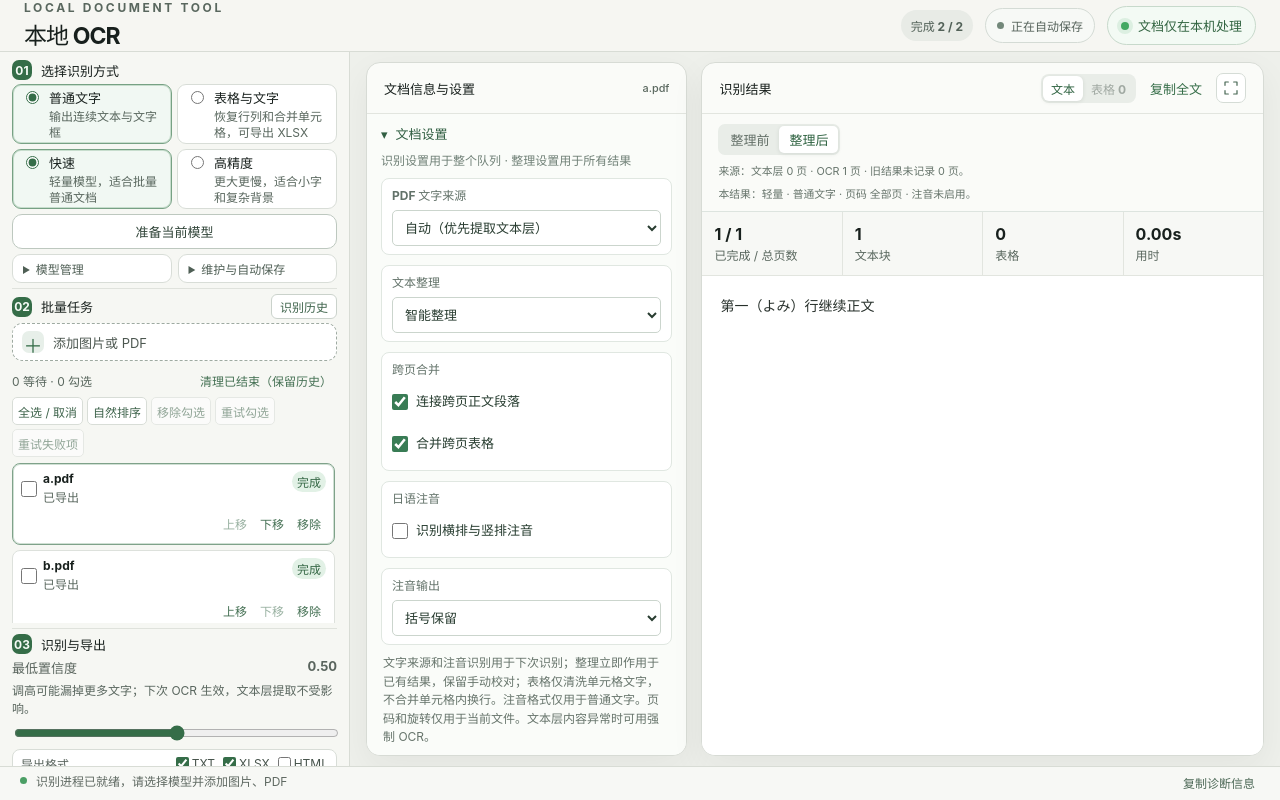
Test: 0.13 state and output regressions › focus mode has two copy buttons and a working ruby preview
Click the checkbox named "识别日语注音" at (400, 531), box [392, 523, 408, 539]
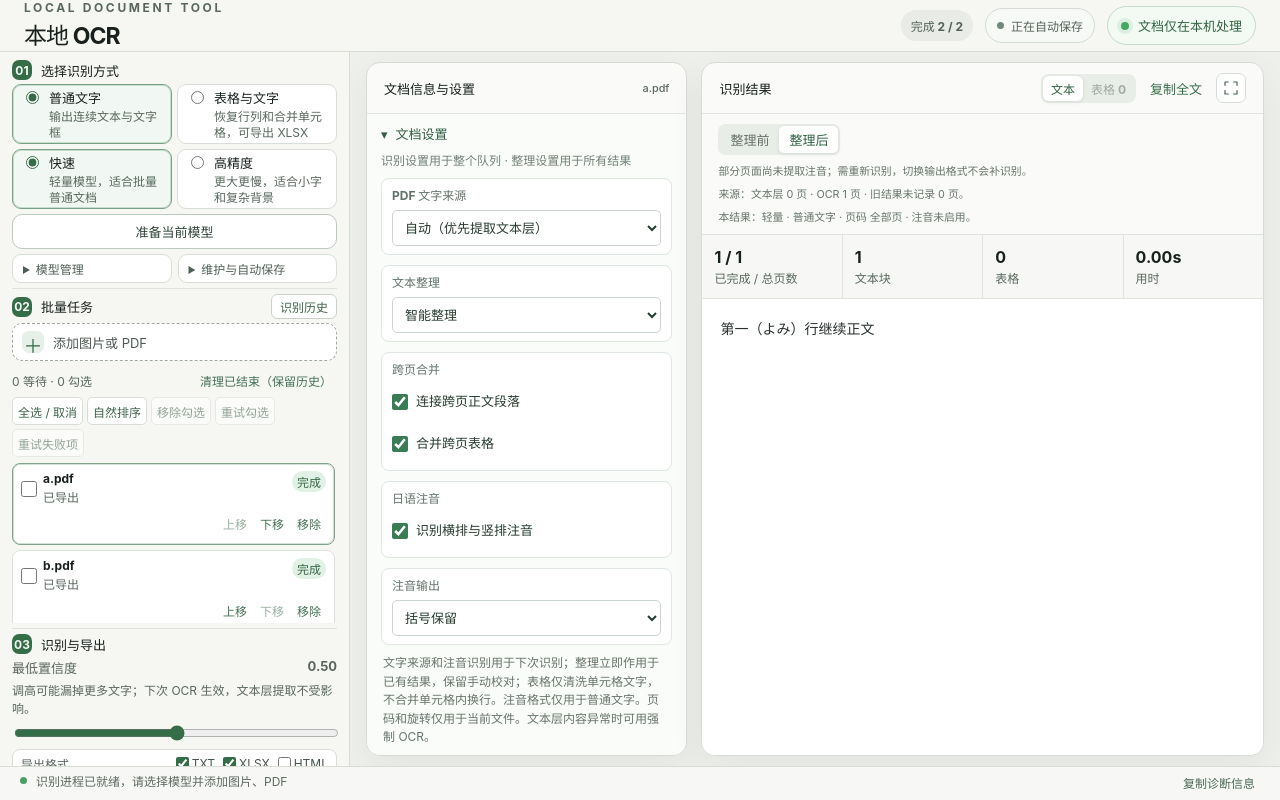
Select "Ruby 小字（HTML）" in the dropdown named "注音输出" at (527, 618), box [392, 600, 662, 636]
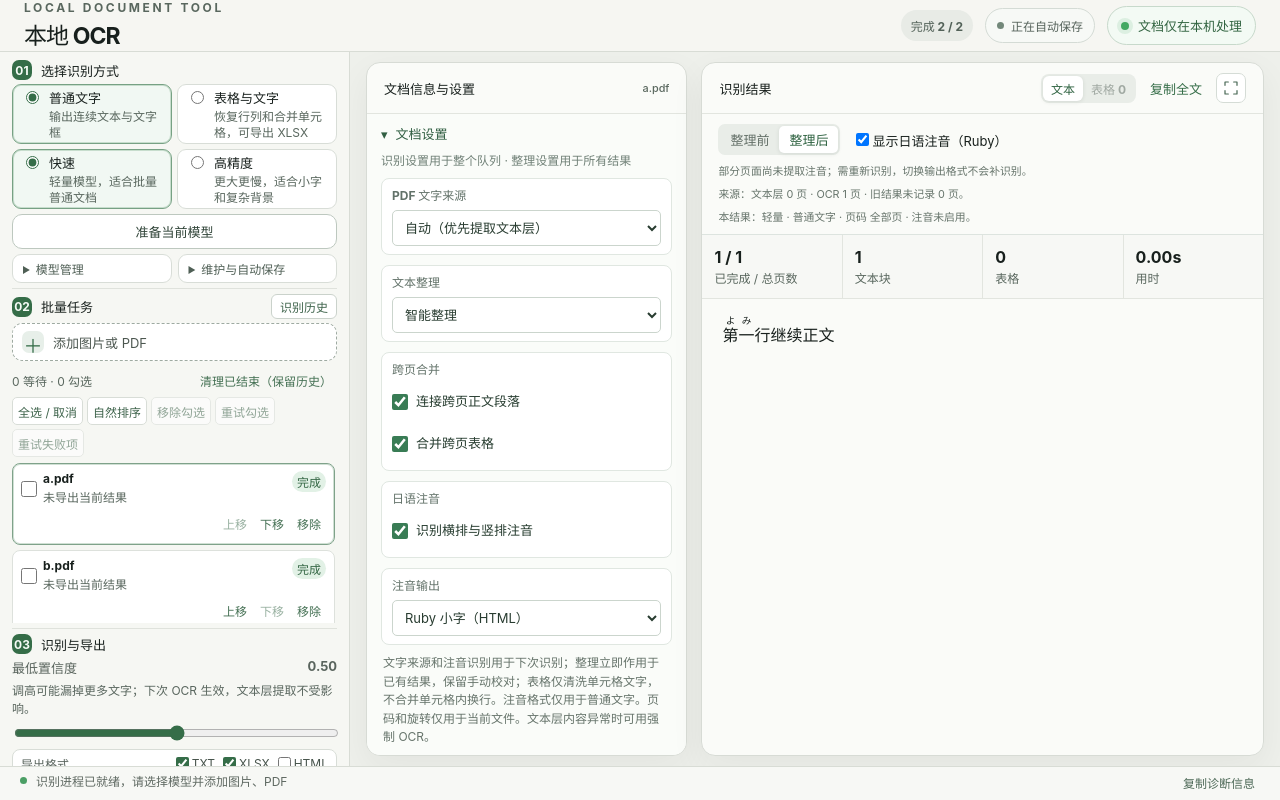
Click the button named "进入专注模式" at (1231, 88), box [1216, 73, 1246, 103]
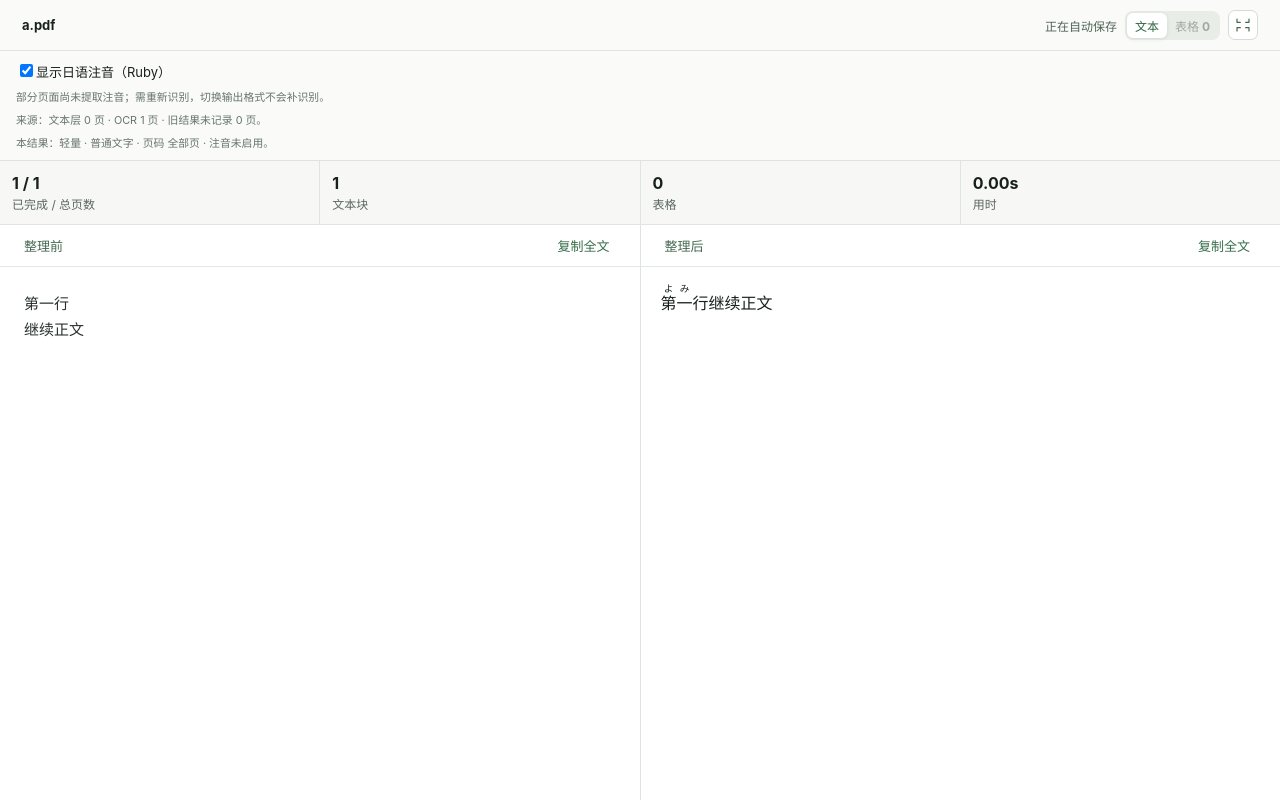
Result: the element showing "第一 よみ" is shown at [660, 293, 692, 313]
Click the checkbox labelled "显示日语注音（Ruby）" at (26, 70), box [20, 64, 33, 77]
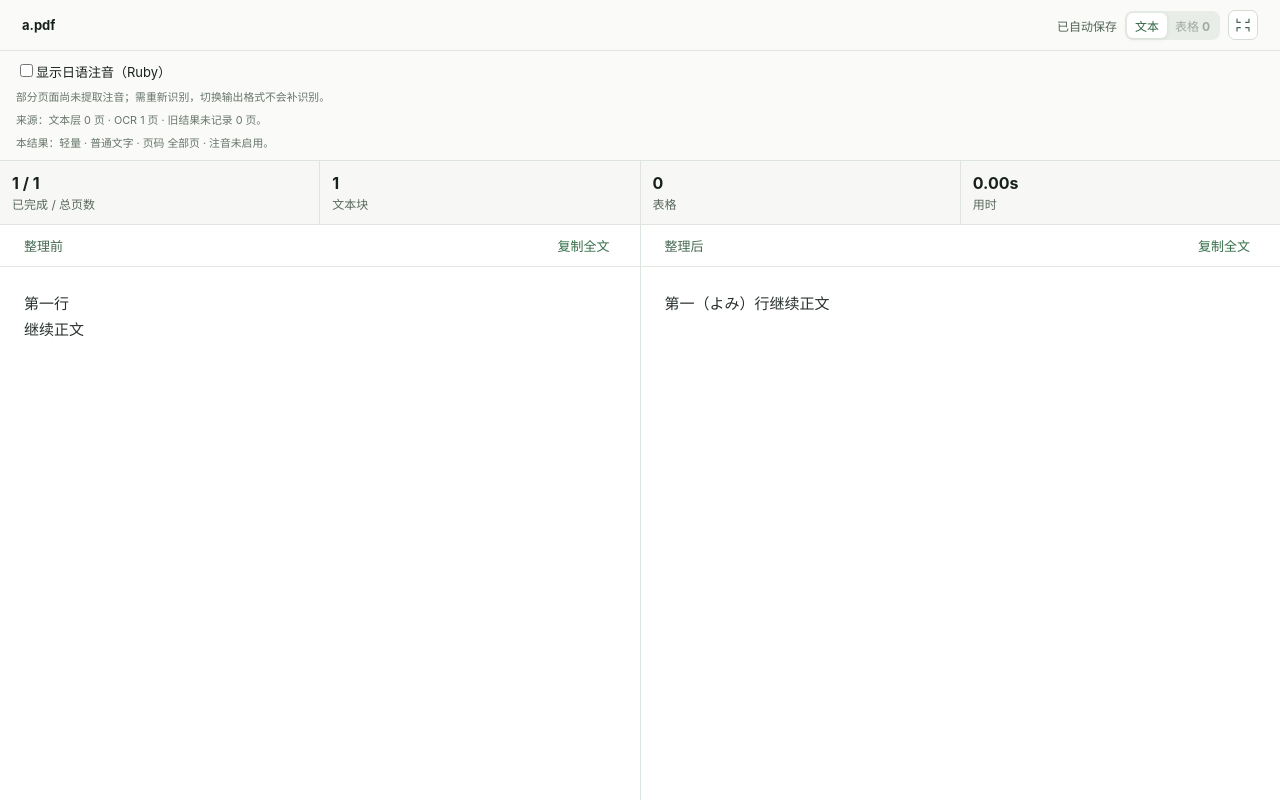
Result: the message "已自动保存" is shown at [1057, 16, 1117, 34]
Result: the text box named "整理后文本" is shown at [640, 267, 1279, 799]
